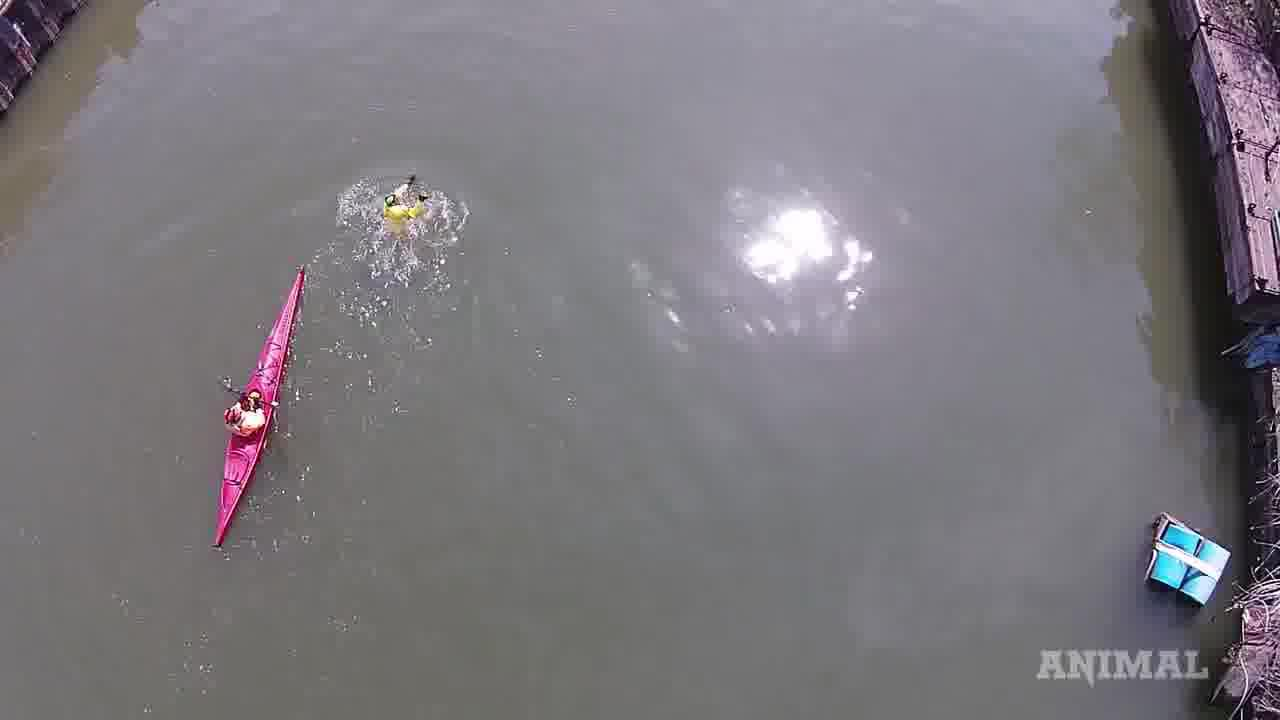human: (363, 169, 439, 245)
